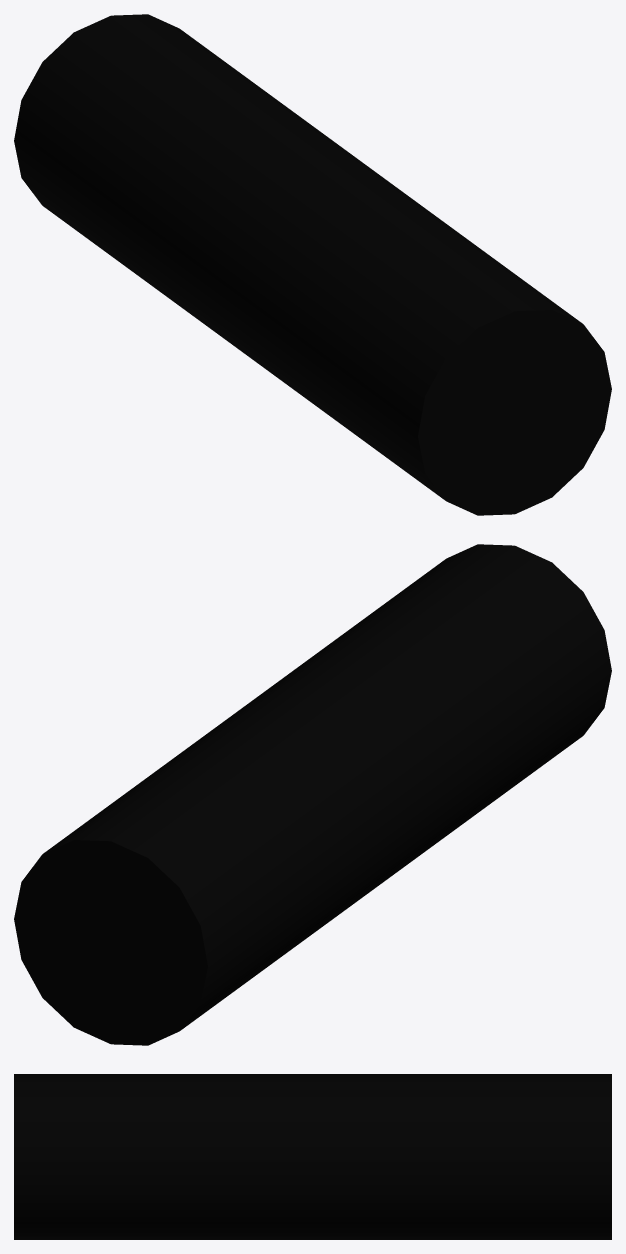
File: Tronco.fbx
3 views of the same model, one above another, from view 1: azimuth 30°, elevation 25°; view 2: azimuth 150°, elevation 25°; view 3: azimuth 270°, elevation 25° (orthographic). The views are drawn at different scales.
Parts seen in each view (by area): view 1: Tronco; view 2: Tronco; view 3: Tronco.
Part boxes in pixels (x1=…): Tronco: x1=14, y1=14, x2=611, y2=515; Tronco: x1=14, y1=544, x2=611, y2=1045; Tronco: x1=14, y1=1074, x2=611, y2=1239.
Bounding box in the file's own units: 432 × 432 × 1556.
